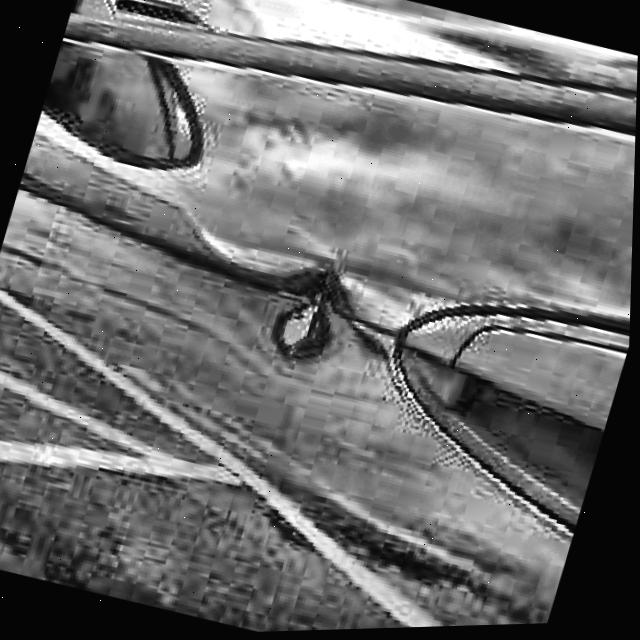door_dent: (229, 227, 379, 393)
